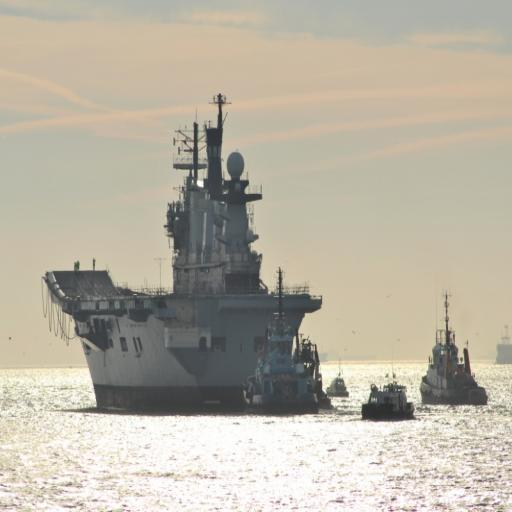Portanaves: (41, 89, 331, 418)
